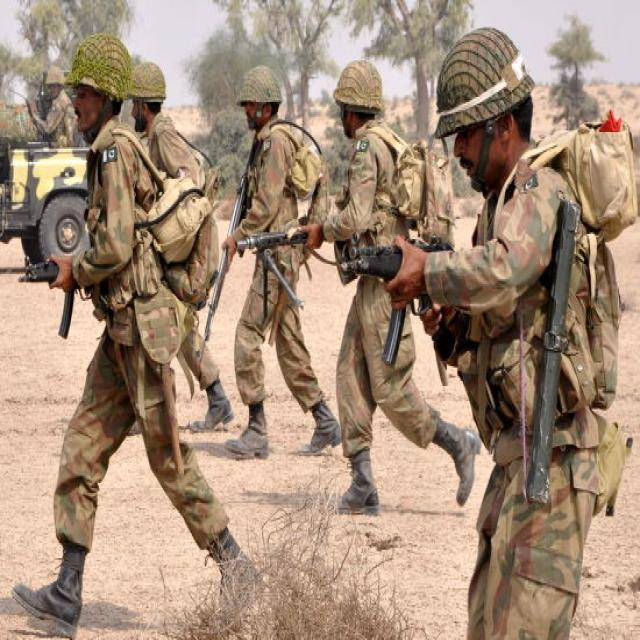Forest: (0, 4, 640, 638)
Militant: (24, 19, 267, 614), (421, 18, 640, 640), (318, 38, 482, 504), (217, 60, 352, 494), (109, 43, 237, 488)
